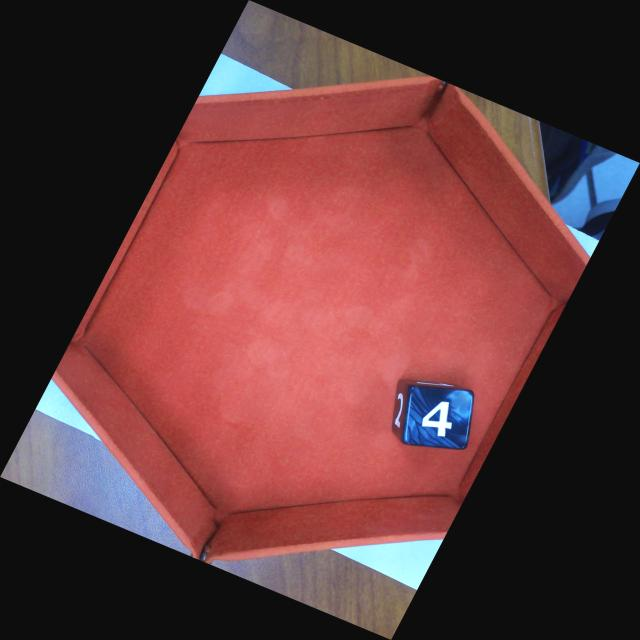dice: (402, 385, 475, 451)
